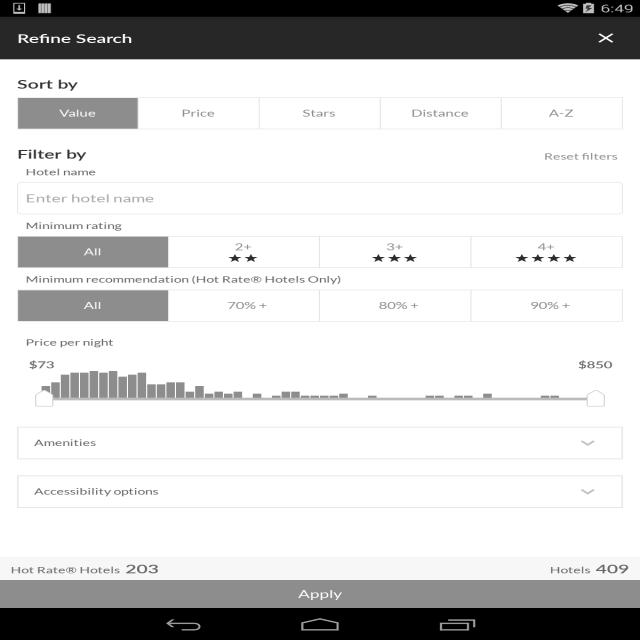ImageView: (11, 572, 143, 599), (143, 572, 275, 599), (17, 481, 92, 528), (17, 357, 92, 403), (5, 547, 70, 561), (100, 481, 180, 490), (100, 357, 180, 365), (515, 254, 577, 262), (575, 435, 600, 451), (575, 484, 600, 499), (372, 254, 418, 262), (36, 390, 54, 407), (586, 390, 604, 407), (228, 254, 258, 262)
TextView: (17, 182, 623, 215), (100, 365, 623, 380), (100, 490, 623, 505), (100, 504, 623, 518), (100, 380, 623, 393), (34, 438, 601, 448), (34, 487, 601, 496), (26, 275, 341, 284), (265, 327, 375, 346), (17, 30, 132, 46), (560, 572, 630, 597), (580, 22, 632, 54), (34, 407, 166, 419), (34, 532, 166, 543), (567, 426, 623, 450), (567, 553, 623, 577), (17, 145, 87, 162), (11, 565, 120, 575), (17, 543, 105, 555), (17, 75, 78, 92), (17, 559, 104, 570), (26, 221, 121, 231), (539, 151, 623, 162), (17, 419, 96, 430), (47, 435, 128, 445), (26, 338, 114, 347), (26, 167, 96, 177), (411, 108, 469, 119), (125, 560, 159, 577), (596, 560, 629, 577), (219, 300, 267, 311), (522, 300, 570, 311), (298, 588, 342, 600), (371, 300, 418, 311), (576, 407, 623, 417), (576, 534, 623, 544), (573, 450, 623, 459), (578, 358, 612, 371), (59, 108, 96, 119), (550, 565, 590, 575), (181, 108, 215, 119), (302, 108, 336, 119), (29, 358, 54, 371), (593, 417, 623, 426), (593, 544, 623, 553), (549, 108, 573, 119), (84, 300, 101, 311), (234, 242, 252, 252), (84, 247, 101, 257), (386, 242, 403, 252), (538, 242, 554, 252), (17, 408, 32, 418), (557, 429, 567, 443), (557, 556, 567, 570), (17, 533, 32, 542), (30, 436, 43, 444)
